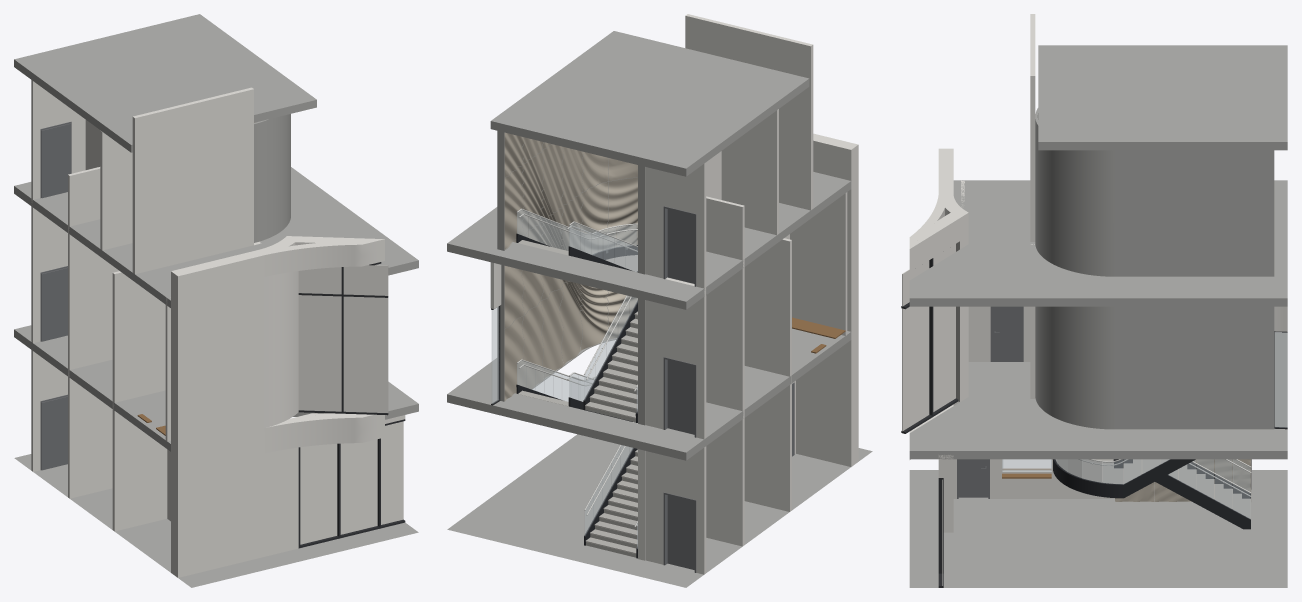
File: opera_stair.glb
3 renders of one model, left to right at view 1: azimuth 30°, elevation 25°; view 2: azimuth 150°, elevation 25°; view 3: azimuth 270°, elevation 25°, orthographic. The views are drawn at different scales.
Visible parts, largest first — view 1: I-WALL (×14), A-FLOR (×6), Layer 03 (×7), SPEC (×6); view 2: A-FLOR (×8), I-WALL (×11), WAVE 1 (×18), SPEC (×9), STAIR TREADS AND LANDING (×2), Layer 02, System Panel, 12_Counter_Straight; view 3: A-FLOR (×8), I-WALL (×9), Layer 03 (×2), STAIR TREADS AND LANDING (×3), 08_Door_Single_Frame Type 2 (×2), STAIR STRINGERS (×3), System Panel, Rectangular Mullion (×2), Fixed, WAVE 1, STAIR GLASS RAILING.
Boxes of the visible parts, <box> form: I-WALL (×14): <box>31,80,405,577</box>; A-FLOR (×6): <box>14,14,418,587</box>; Layer 03 (×7): <box>298,264,403,544</box>; SPEC (×6): <box>41,123,71,470</box>; A-FLOR (×8): <box>447,31,851,587</box>; I-WALL (×11): <box>645,14,858,574</box>; WAVE 1 (×18): <box>504,132,637,400</box>; SPEC (×9): <box>663,206,696,572</box>; STAIR TREADS AND LANDING (×2): <box>585,311,637,557</box>; Layer 02: <box>638,449,645,560</box>; System Panel: <box>491,306,499,403</box>; 12_Counter_Straight: <box>792,317,845,338</box>; A-FLOR (×8): <box>909,45,1287,587</box>; I-WALL (×9): <box>909,14,1114,532</box>; Layer 03 (×2): <box>902,306,955,431</box>; STAIR TREADS AND LANDING (×3): <box>1056,459,1250,518</box>; 08_Door_Single_Frame Type 2 (×2): <box>958,306,1021,497</box>; STAIR STRINGERS (×3): <box>1053,459,1250,529</box>; System Panel: <box>1274,332,1287,427</box>; Rectangular Mullion (×2): <box>929,306,943,573</box>; Fixed: <box>1004,459,1049,470</box>; WAVE 1: <box>1194,459,1233,482</box>; STAIR GLASS RAILING: <box>1102,459,1123,484</box>.
Size of the model in its own units: 8.59 by 15.47 by 11.88.
